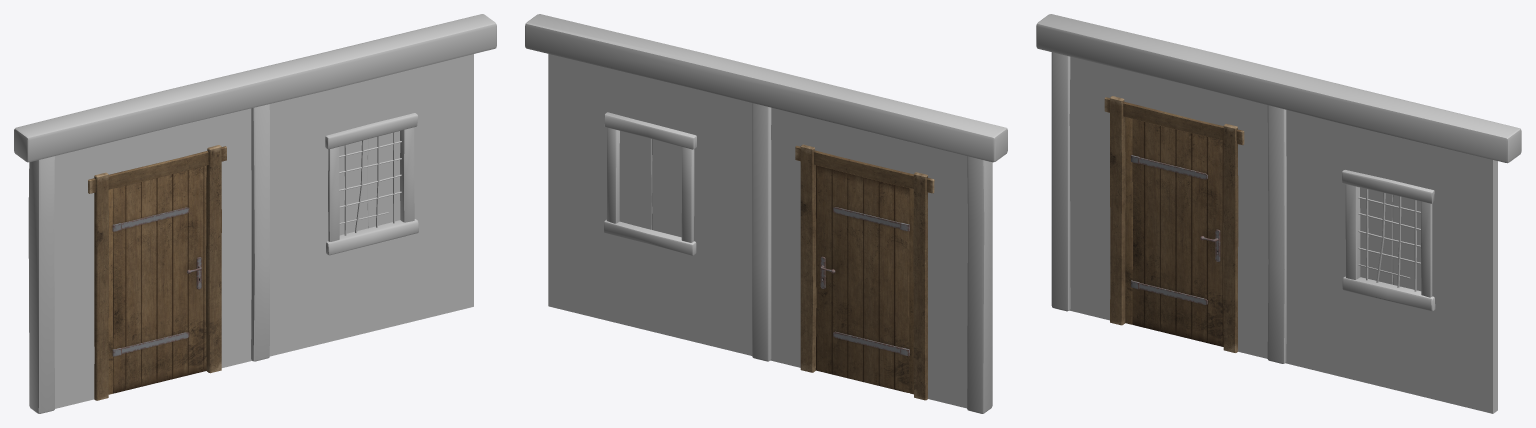
The model's file is SM_WallElement_08.FBX.
3 renders of one model, left to right at view 1: azimuth 30°, elevation 25°; view 2: azimuth 150°, elevation 25°; view 3: azimuth 330°, elevation 25°, orthographic.
Visible parts, largest first — view 1: SM_WallElement_08, SM_Door_01, SM_Window_Shutter_Right, SM_Window_Shutter_Left; view 2: SM_WallElement_08, SM_Door_01, SM_Window_Shutter_Right, SM_Window_Shutter_Left; view 3: SM_WallElement_08, SM_Door_01, SM_Window_Shutter_Left, SM_Window_Shutter_Right.
Part boxes in pixels (x1,y1,x2,y2): SM_WallElement_08: [14, 14, 496, 413]; SM_Door_01: [112, 165, 206, 393]; SM_Window_Shutter_Right: [367, 131, 400, 228]; SM_Window_Shutter_Left: [339, 139, 367, 235]; SM_WallElement_08: [525, 14, 1007, 413]; SM_Door_01: [815, 165, 909, 392]; SM_Window_Shutter_Right: [619, 131, 652, 229]; SM_Window_Shutter_Left: [652, 139, 681, 237]; SM_WallElement_08: [1036, 14, 1521, 413]; SM_Door_01: [1131, 119, 1223, 346]; SM_Window_Shutter_Left: [1360, 187, 1392, 284]; SM_Window_Shutter_Right: [1392, 195, 1421, 291].
Bounding box in the file's own units: 5.47 × 3.16 × 0.3119.
